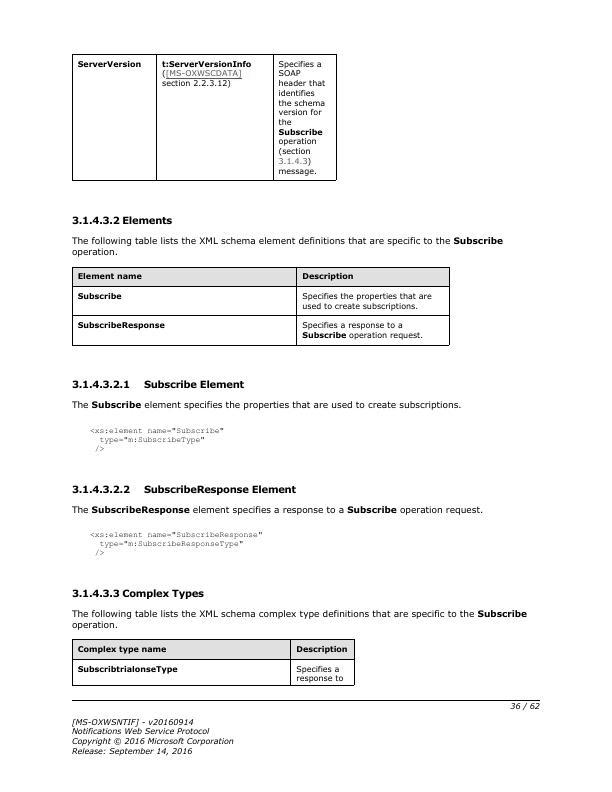table: (70, 52, 339, 183), (71, 265, 450, 348), (70, 636, 356, 689)
text: (71, 606, 527, 631), (68, 233, 505, 258), (68, 714, 235, 758), (68, 501, 487, 516), (68, 398, 464, 413), (86, 529, 266, 556), (86, 426, 226, 452), (68, 483, 298, 495), (68, 376, 248, 391), (68, 586, 206, 600), (68, 212, 173, 228)
